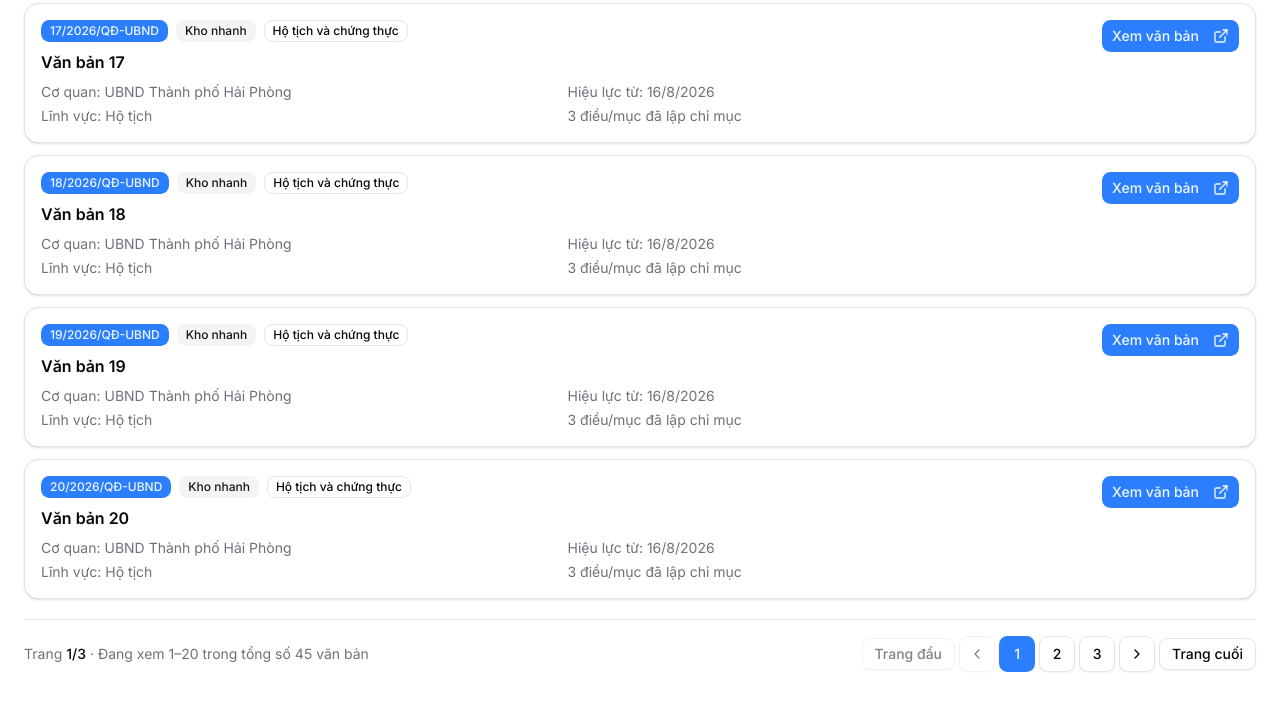
Test: SourcesPage › resets to page one and maps the selected date range to API parameters
(page scrolled)
Click the button named "Trang sau".
click(1137, 654)  # box [1119,636,1155,672]
(page scrolled)
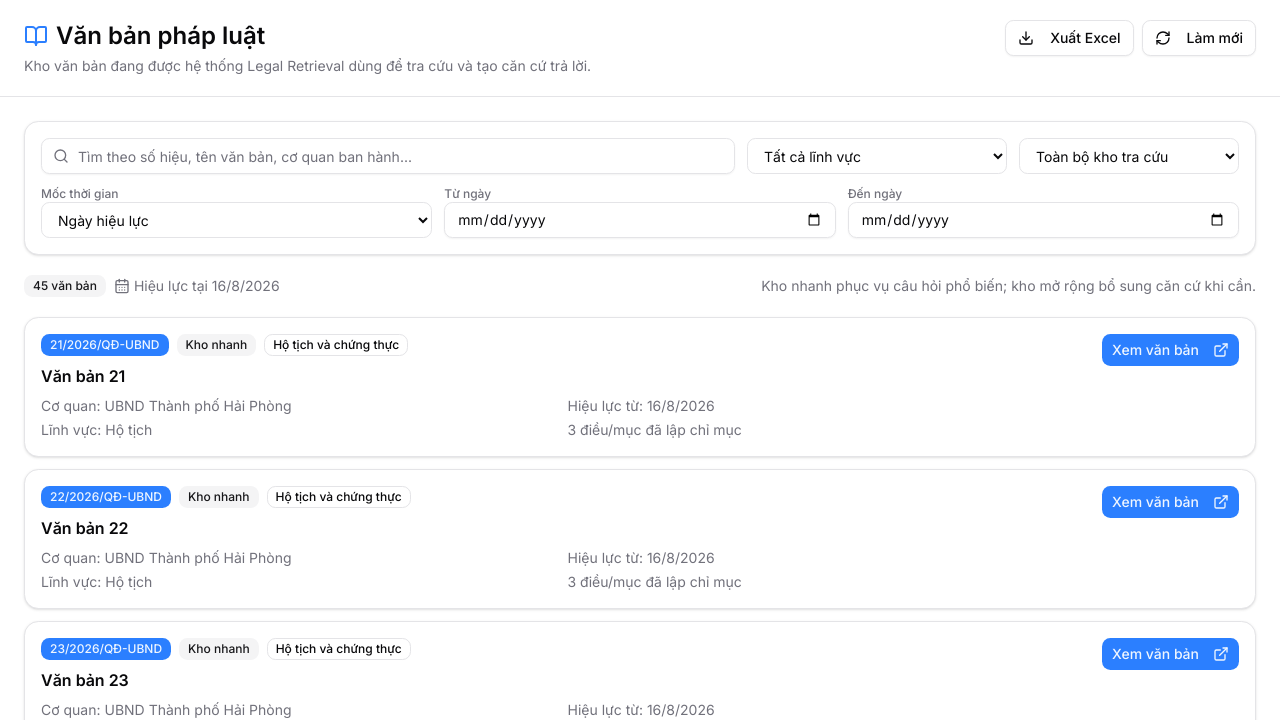
Check: the heading "Văn bản 21" is shown, box [41,366,125,386]
Select "Ngày ban hành" in the dropdown named "Chọn loại ngày" at point(237, 220), box [41,202,432,238]
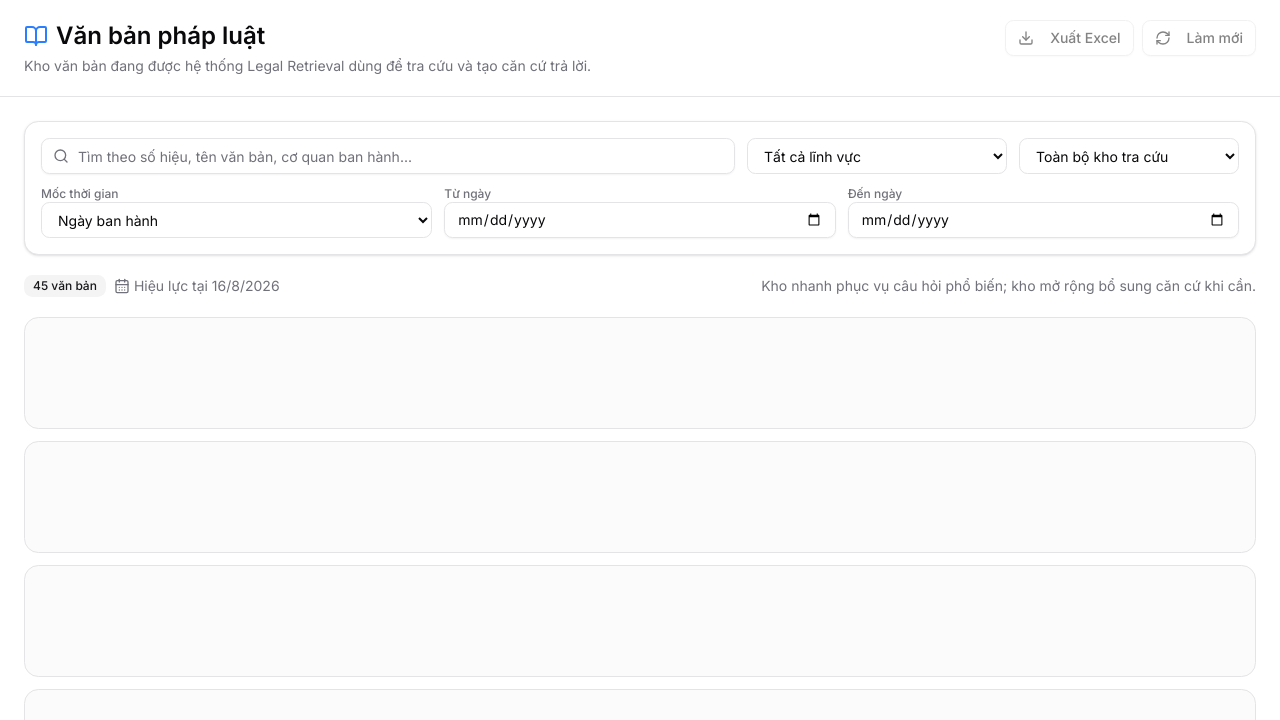
Type "2026-01-01" into the date field labelled "Từ ngày".
click(640, 220); type("2026-01-01")  # box [444,202,836,238]
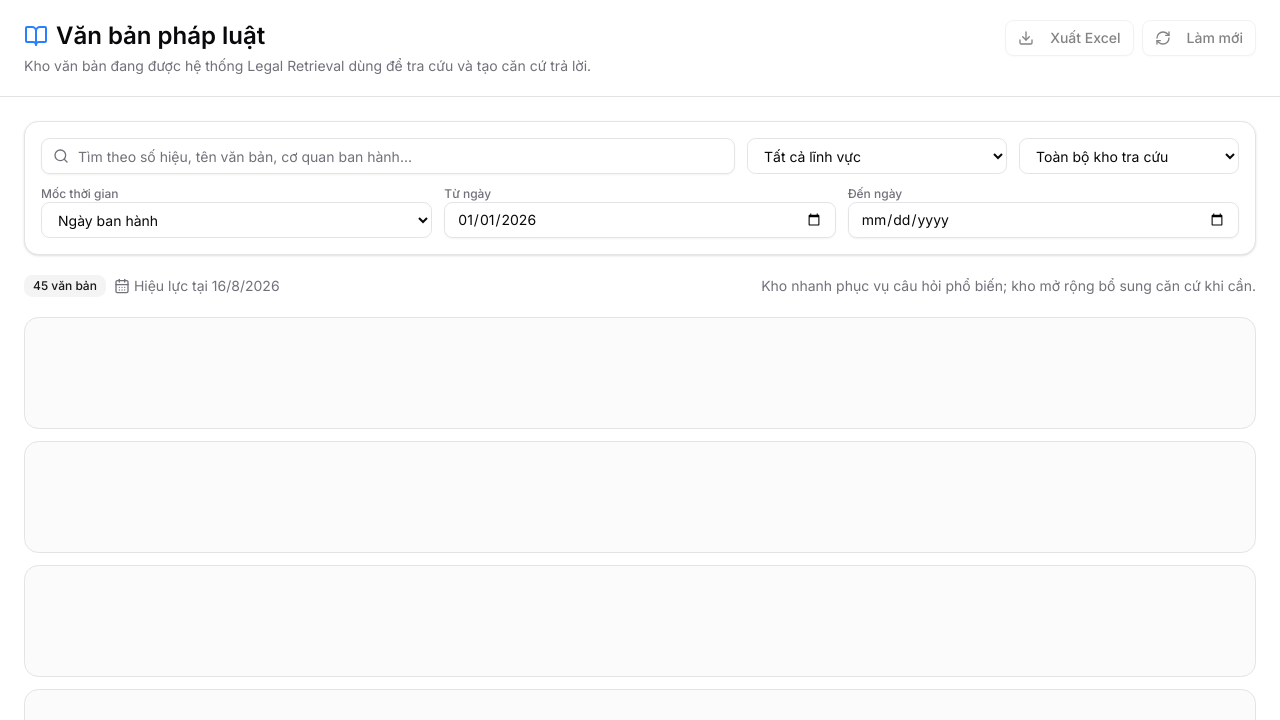
Type "2026-06-30" into the date field labelled "Đến ngày".
click(1043, 220); type("2026-06-30")  # box [848,202,1239,238]
(page scrolled)
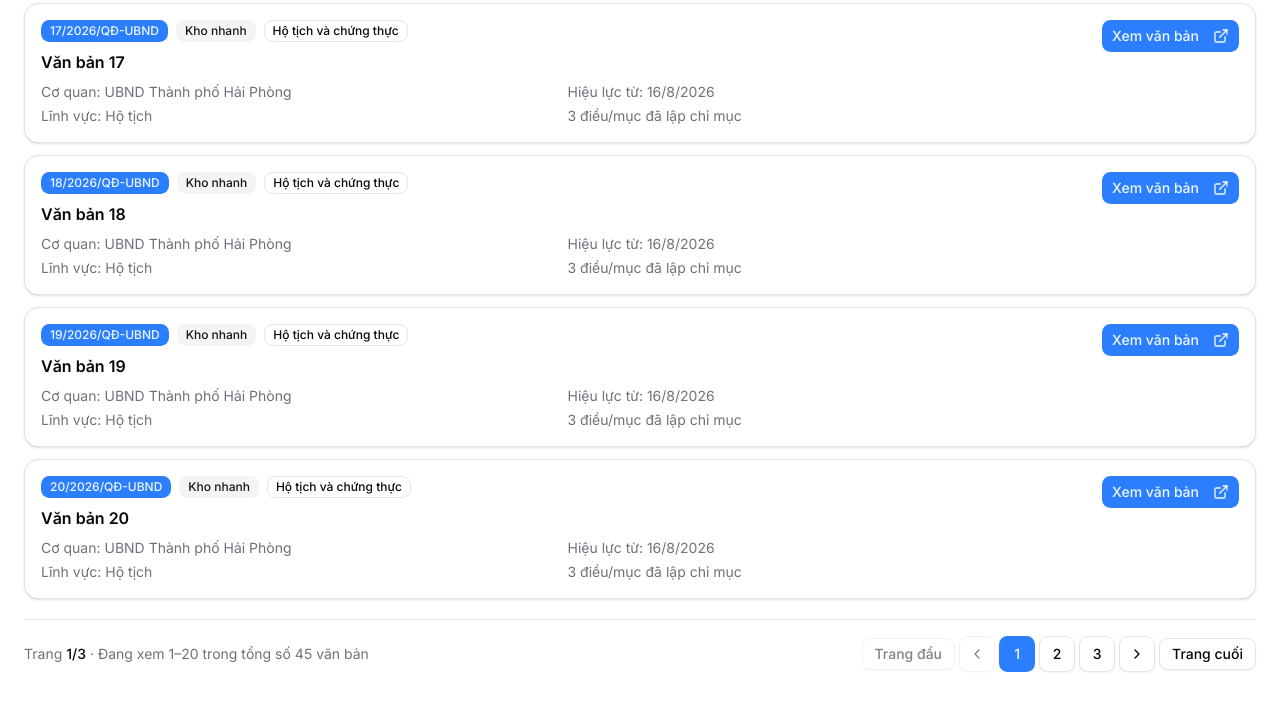
Check: the button named "Trang 1" is shown, box [999,636,1035,672]
